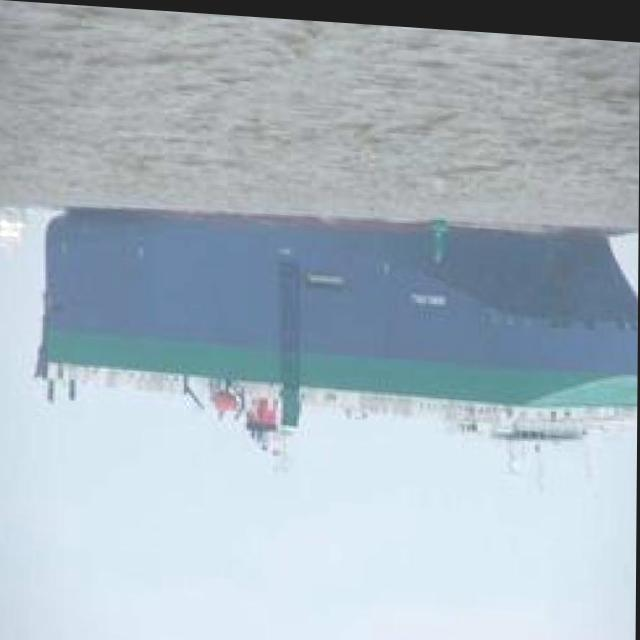ship2: (35, 205, 639, 470)
